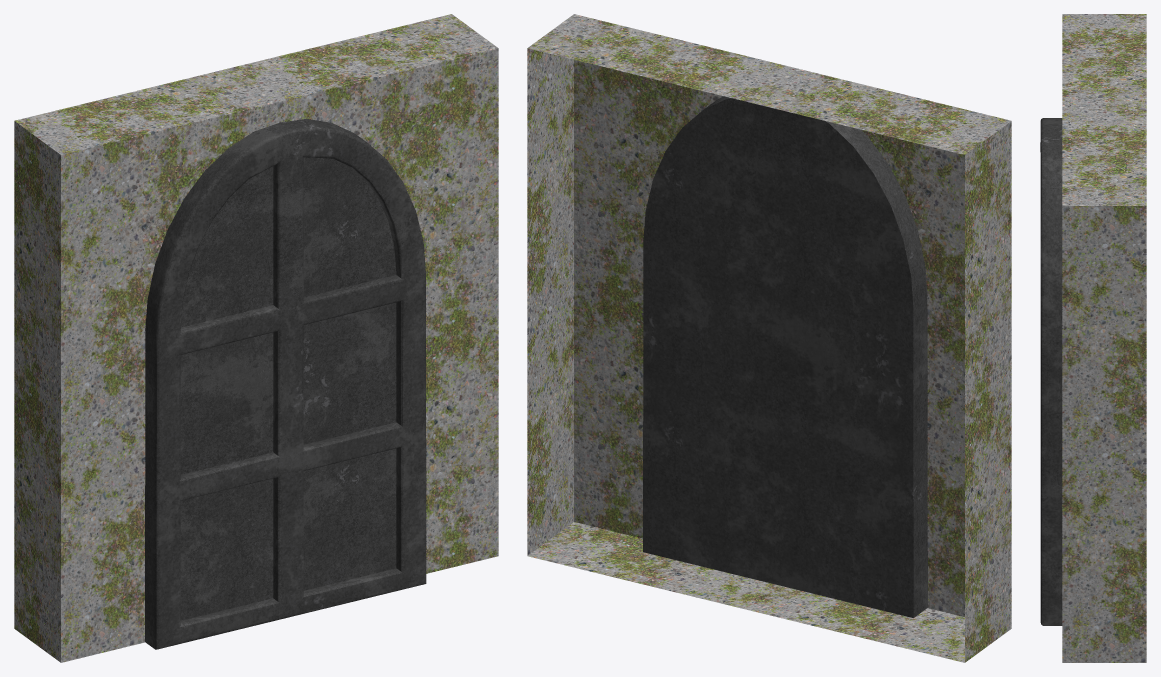
Rendered from tunnel entrance.fbx.
3 views of the same model, side by side, from view 1: azimuth 30°, elevation 25°; view 2: azimuth 150°, elevation 25°; view 3: azimuth 270°, elevation 25° (orthographic). The views are drawn at different scales.
Visible parts, largest first — view 1: tunnel door wall, tunnel door; view 2: tunnel door wall, tunnel door; view 3: tunnel door wall, tunnel door.
Part boxes in pixels (x1,y1,x2,y2): tunnel door wall: (14, 14, 498, 662); tunnel door: (145, 119, 426, 649); tunnel door wall: (527, 14, 1011, 662); tunnel door: (643, 96, 927, 617); tunnel door wall: (1062, 14, 1146, 662); tunnel door: (1040, 118, 1062, 625).
Size of the model in its own units: 200 by 46.68 by 222.
